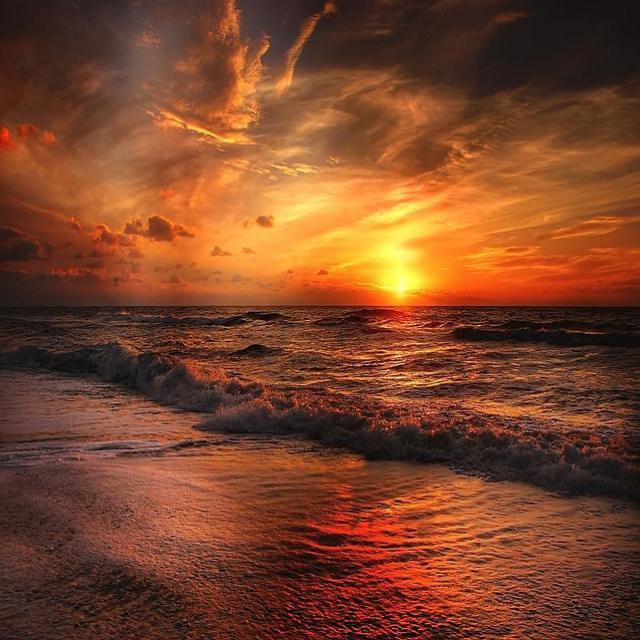other: (331, 180, 455, 304)
